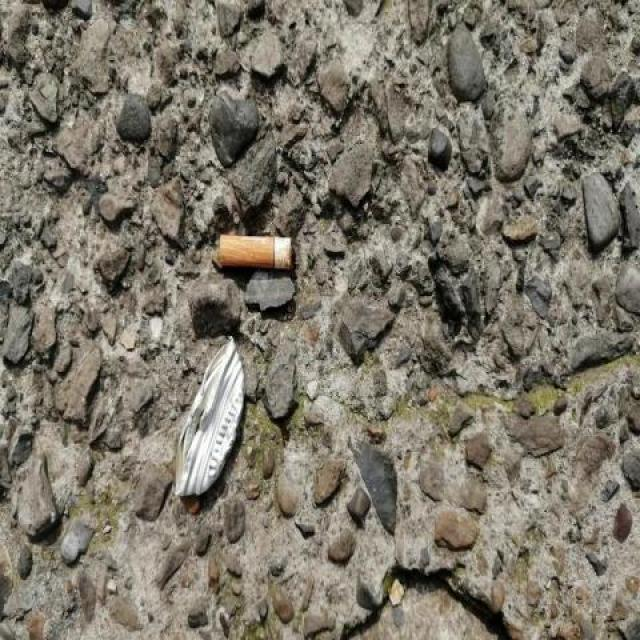non-organic waste: (212, 229, 300, 279)
